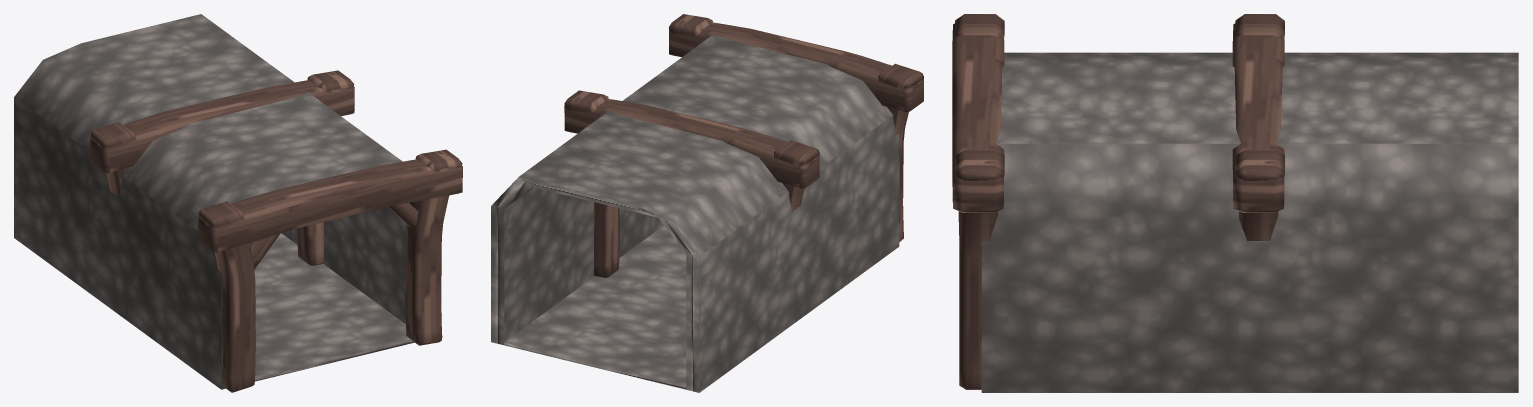
Rendered from SM_mine_module.glb.
3 renders of one model, left to right at view 1: azimuth 30°, elevation 25°; view 2: azimuth 150°, elevation 25°; view 3: azimuth 270°, elevation 25°, orthographic. The views are drawn at different scales.
Visible parts, largest first — view 1: SM_mine_module; view 2: SM_mine_module; view 3: SM_mine_module.
Boxes of the visible parts, x1,y1,x2,y2 form: SM_mine_module: (14,14,462,392); SM_mine_module: (491,14,923,392); SM_mine_module: (952,14,1518,392).
Bounding box in the file's own units: 7.36 × 5.06 × 11.
Materials: 2 (2 with a texture image).
